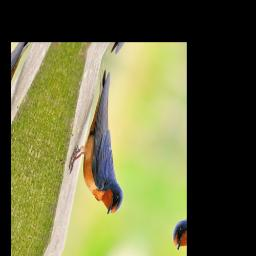Swallow: (55, 65, 160, 223)
